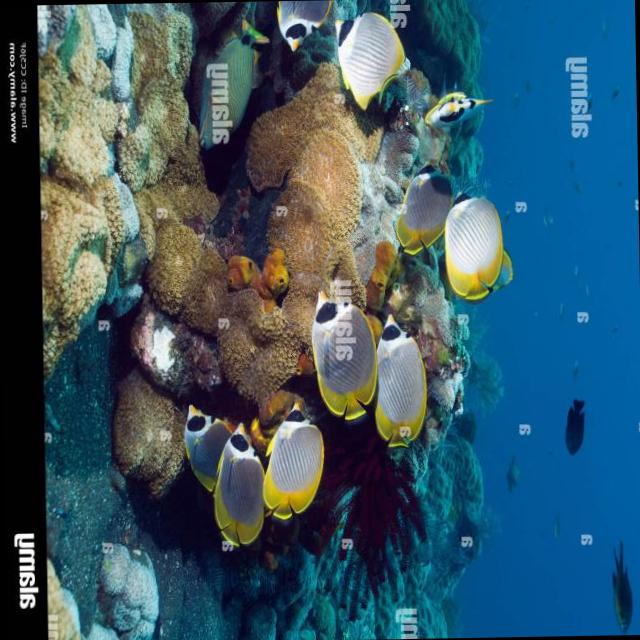ButterflyFish: (270, 385, 340, 564), (319, 0, 413, 113), (438, 164, 508, 314), (301, 285, 374, 427), (371, 304, 436, 461), (195, 428, 270, 547), (380, 160, 451, 256), (170, 391, 223, 496), (250, 0, 320, 58), (414, 86, 491, 136)
